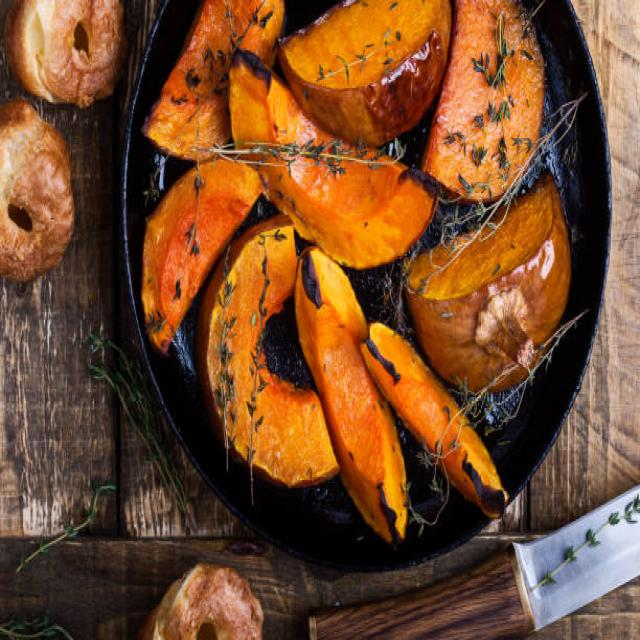pumpkin: (229, 52, 436, 267), (196, 216, 339, 487), (408, 174, 571, 392), (295, 248, 408, 544), (278, 0, 450, 145), (141, 159, 262, 353), (142, 0, 283, 160)
